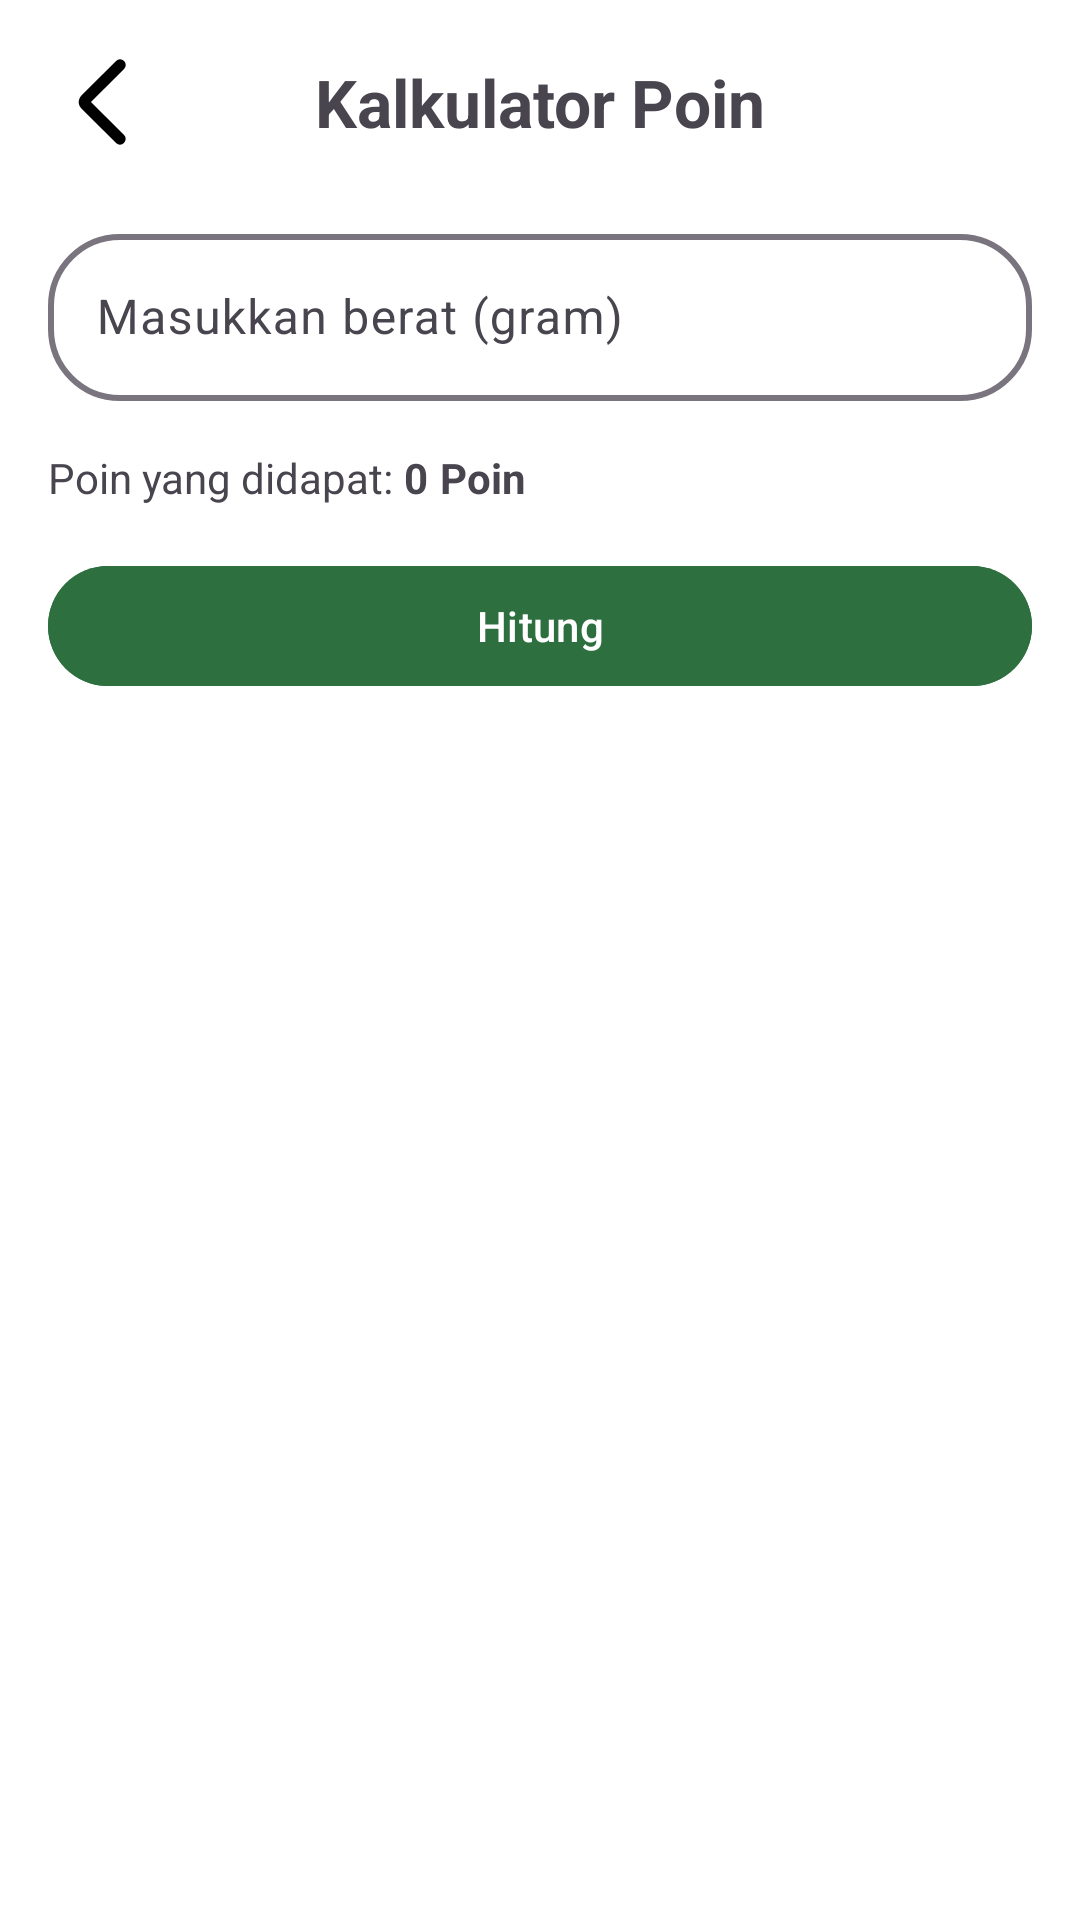

Where icons sit on this 1080×1920 app screen, as (x1, y1, x2, y2):
arrow back: (78, 59, 126, 145)
